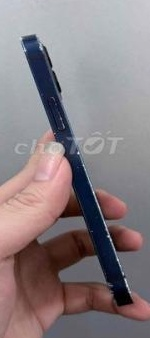scratch: (5, 33, 150, 319)
